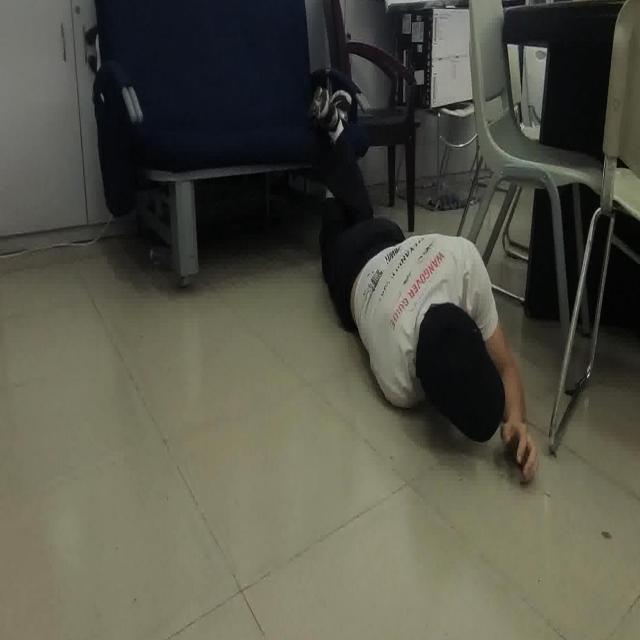fall: (308, 78, 544, 486)
